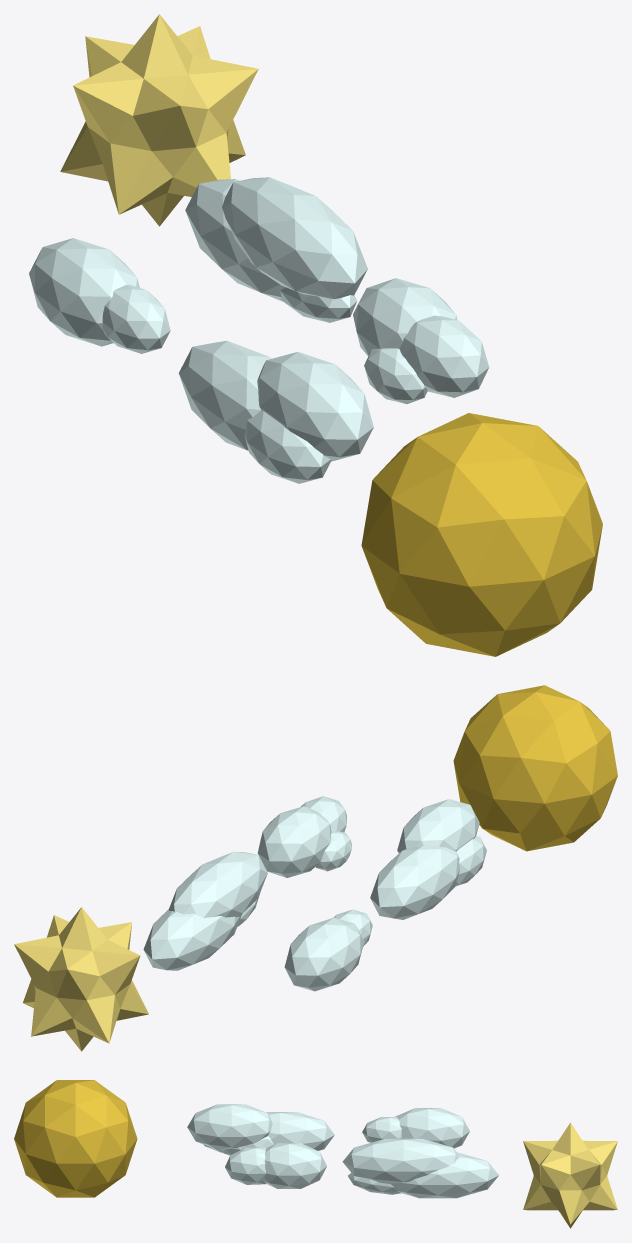
File: ceu.fbx
The picture shows the model from 3 angles, top to bottom: view 1: azimuth 30°, elevation 25°; view 2: azimuth 150°, elevation 25°; view 3: azimuth 270°, elevation 25°; orthographic projection. The views are drawn at different scales.
Visible parts, largest first — view 1: Icosphere.005, Icosphere.003, Icosphere.004, Icosphere.002, Icosphere, Icosphere.001; view 2: Icosphere.005, Icosphere.003, Icosphere.004, Icosphere.002, Icosphere, Icosphere.001; view 3: Icosphere.005, Icosphere.002, Icosphere.003, Icosphere.004, Icosphere, Icosphere.001.
Part boxes in pixels (<box>): Icosphere.005: <box>361,413,602,656</box>; Icosphere.003: <box>60,14,258,226</box>; Icosphere.004: <box>178,340,373,483</box>; Icosphere.002: <box>185,177,367,322</box>; Icosphere: <box>353,278,489,404</box>; Icosphere.001: <box>29,238,170,353</box>; Icosphere.005: <box>453,685,617,851</box>; Icosphere.003: <box>14,907,148,1051</box>; Icosphere.004: <box>370,799,486,919</box>; Icosphere.002: <box>143,851,267,970</box>; Icosphere: <box>257,796,351,877</box>; Icosphere.001: <box>284,909,372,991</box>; Icosphere.005: <box>14,1080,137,1197</box>; Icosphere.002: <box>342,1138,498,1198</box>; Icosphere.003: <box>523,1122,617,1228</box>; Icosphere.004: <box>187,1104,334,1155</box>; Icosphere: <box>225,1143,326,1188</box>; Icosphere.001: <box>362,1108,469,1148</box>.
Size of the model in its own units: 859 by 521 by 2495.
